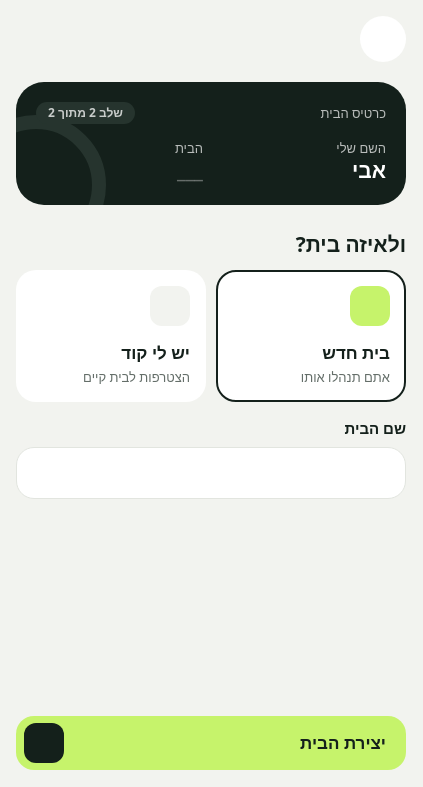
T-1.16 HouseholdStepScreen states (AC-1.10) › renders the code field LTR with an automatic hyphen
The width and height of the screenshot is (423, 787).
Click the radio button labelled "יש לי קוד הצטרפות לבית קיים" at (111, 336), box [16, 270, 206, 402]
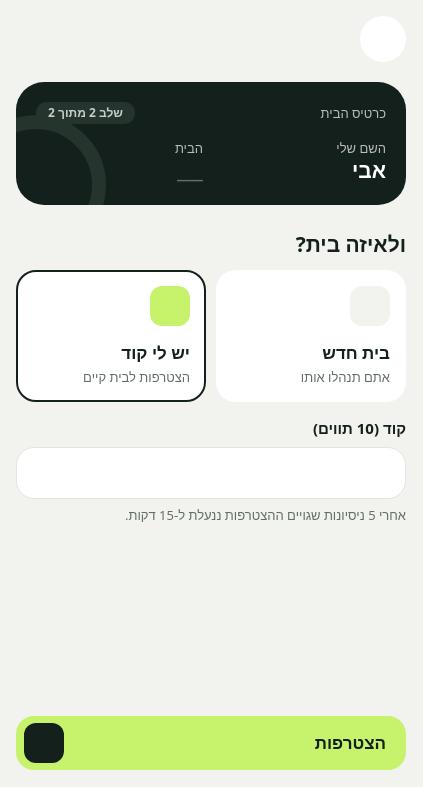
Type "k7pm4qx" into the field labelled "קוד (10 תווים)" at (211, 473), box [16, 447, 406, 499]
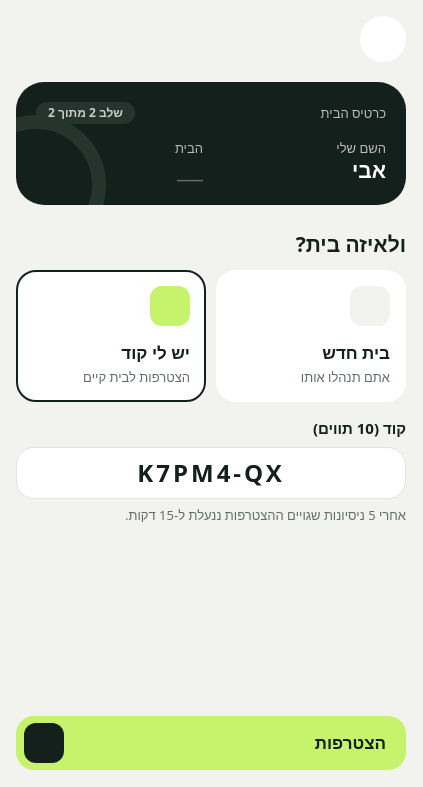
Now the button "הצטרפות" is shown, box [16, 716, 406, 770]
Now the field labelled "קוד (10 תווים)" holds "K7PM4-QX", box [16, 447, 406, 499]
